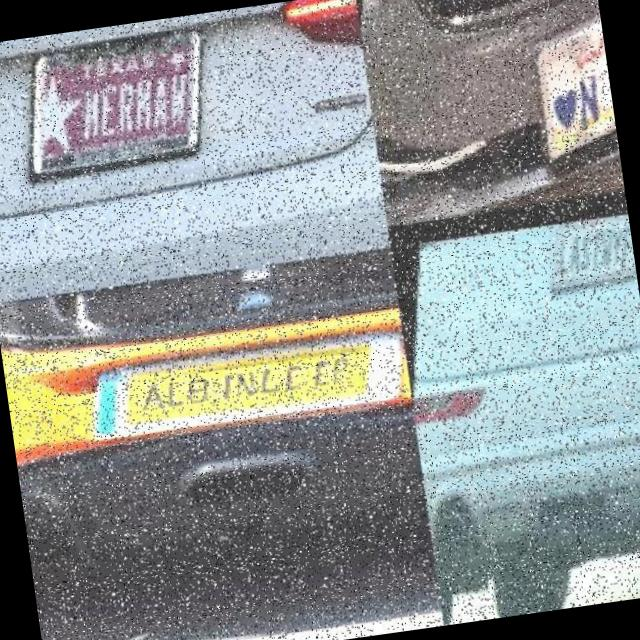LicensePlate: (100, 339, 410, 442), (36, 35, 210, 188), (552, 28, 618, 169), (548, 215, 639, 301)
